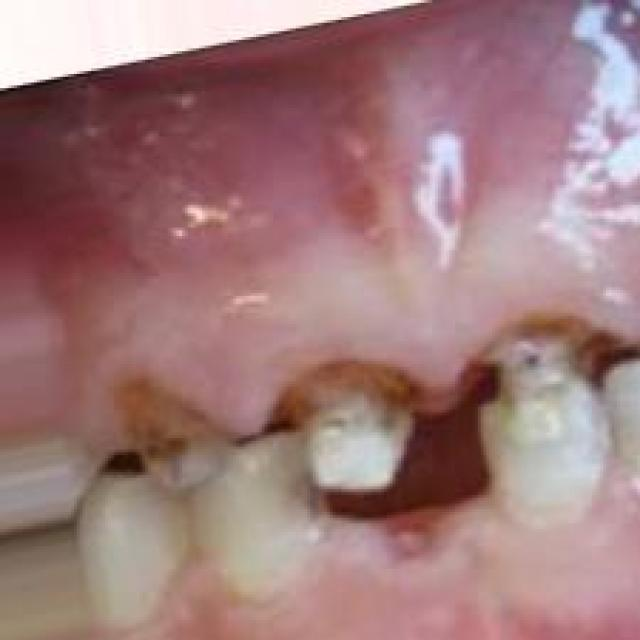caries: (450, 300, 622, 464), (260, 344, 436, 500), (116, 365, 247, 498)
